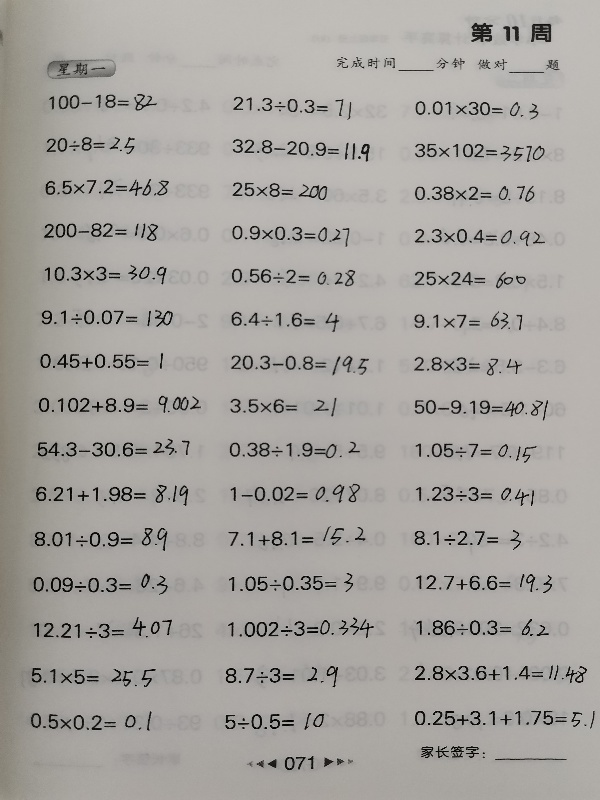equation: (407, 704, 597, 734), (408, 659, 590, 689), (31, 478, 191, 507), (31, 524, 172, 555), (224, 613, 377, 641), (35, 392, 205, 417), (30, 613, 175, 642), (29, 568, 171, 597), (33, 436, 193, 461), (411, 396, 553, 424), (223, 522, 368, 549), (227, 351, 372, 378), (412, 568, 555, 595), (229, 137, 373, 163), (227, 480, 364, 507), (27, 664, 159, 691), (225, 569, 357, 596), (27, 708, 156, 735), (222, 662, 342, 691), (38, 306, 177, 331), (411, 139, 548, 164), (229, 91, 355, 118), (228, 222, 353, 249), (413, 616, 553, 640), (411, 439, 540, 465), (41, 260, 169, 286), (225, 438, 363, 462), (227, 265, 358, 290), (411, 96, 542, 121), (411, 225, 548, 248), (40, 219, 161, 245), (42, 176, 173, 200), (410, 306, 526, 333), (412, 482, 537, 507), (411, 527, 525, 554), (411, 182, 539, 206), (35, 349, 166, 372), (227, 308, 342, 334), (228, 393, 343, 419), (412, 268, 530, 293), (410, 353, 525, 378), (46, 90, 161, 115), (222, 710, 328, 734), (229, 178, 331, 202), (43, 133, 138, 158)
